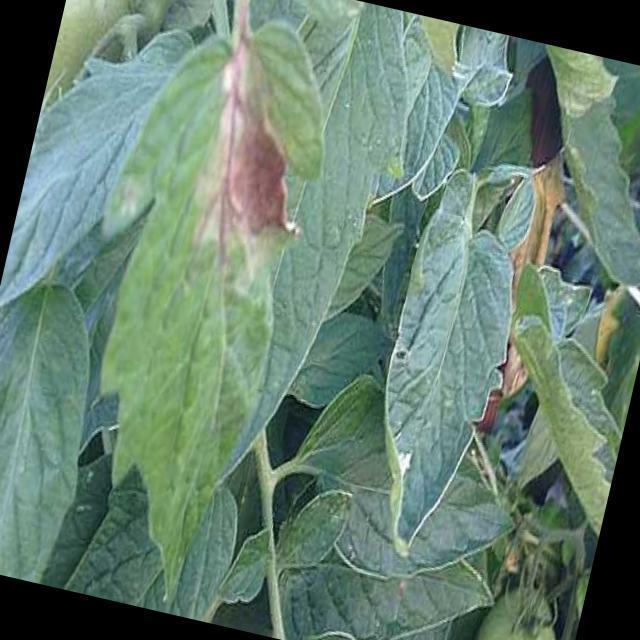Mosaic Virus: (170, 38, 321, 280)
